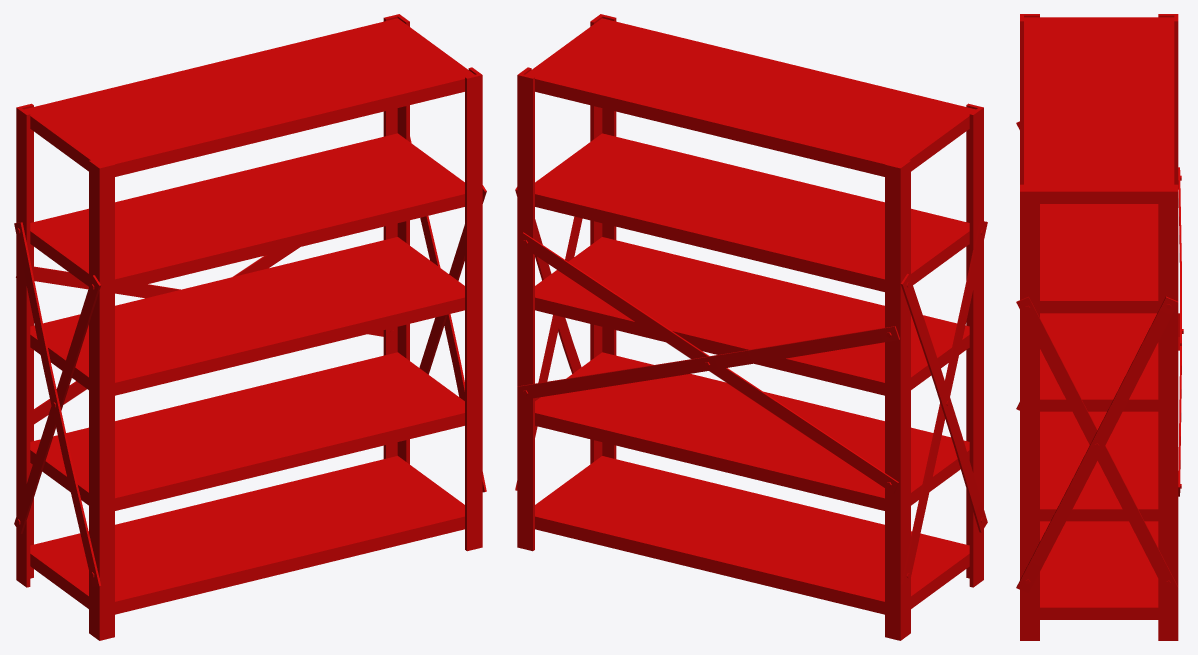
The model's file is Attic_MetalShelf_01_LP.glb.
3 renders of one model, left to right at view 1: azimuth 30°, elevation 25°; view 2: azimuth 150°, elevation 25°; view 3: azimuth 270°, elevation 25°, orthographic. The views are drawn at different scales.
Visible parts, largest first — view 1: Attic_MetalShelf_01_LP; view 2: Attic_MetalShelf_01_LP; view 3: Attic_MetalShelf_01_LP.
Part boxes in pixels (left/top/right/bottom): Attic_MetalShelf_01_LP: left=14, top=14, right=486, bottom=640; Attic_MetalShelf_01_LP: left=515, top=14, right=987, bottom=640; Attic_MetalShelf_01_LP: left=1016, top=14, right=1183, bottom=640.
Size of the model in its own units: 1.7 by 1.96 by 0.6601.
